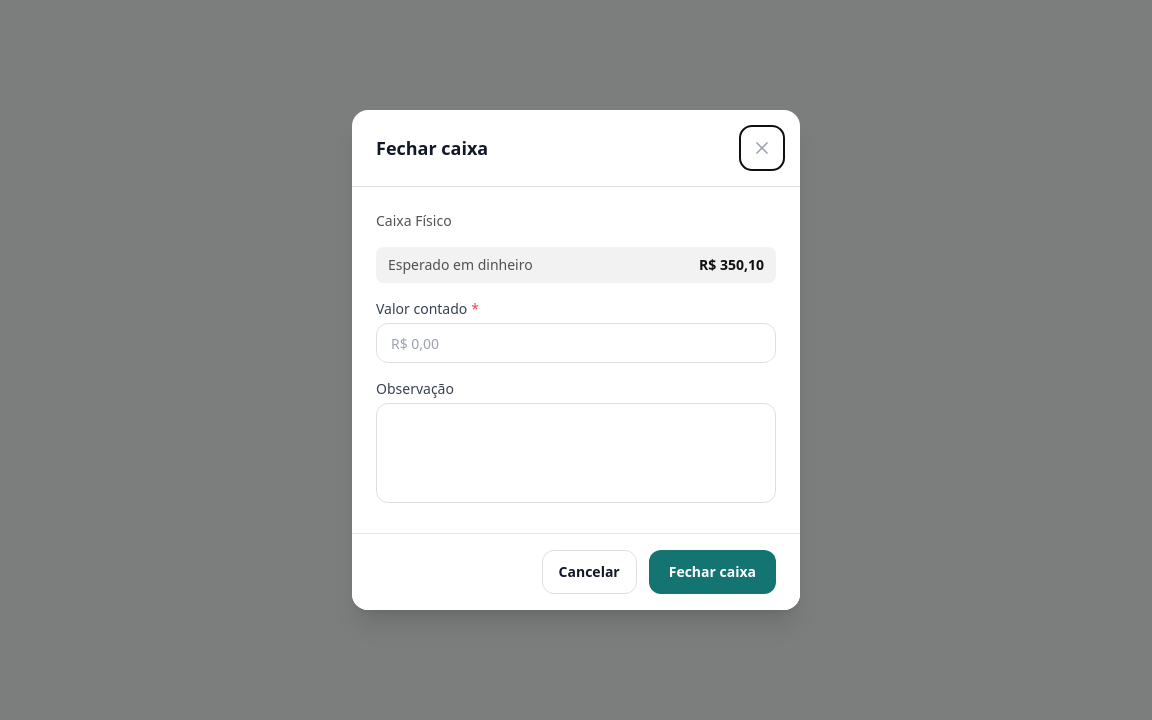
Test: CloseCashSessionModal › destaca falta, sobra e sem diferença conforme o valor contado
The image size is (1152, 720).
expect the text with test id "valor-esperado" reads "R$ 350,10": met, box [699,255,764,274]
In the field labelled "Valor contado*": coordinates (576, 343) [376,323,776,363], type "35000"
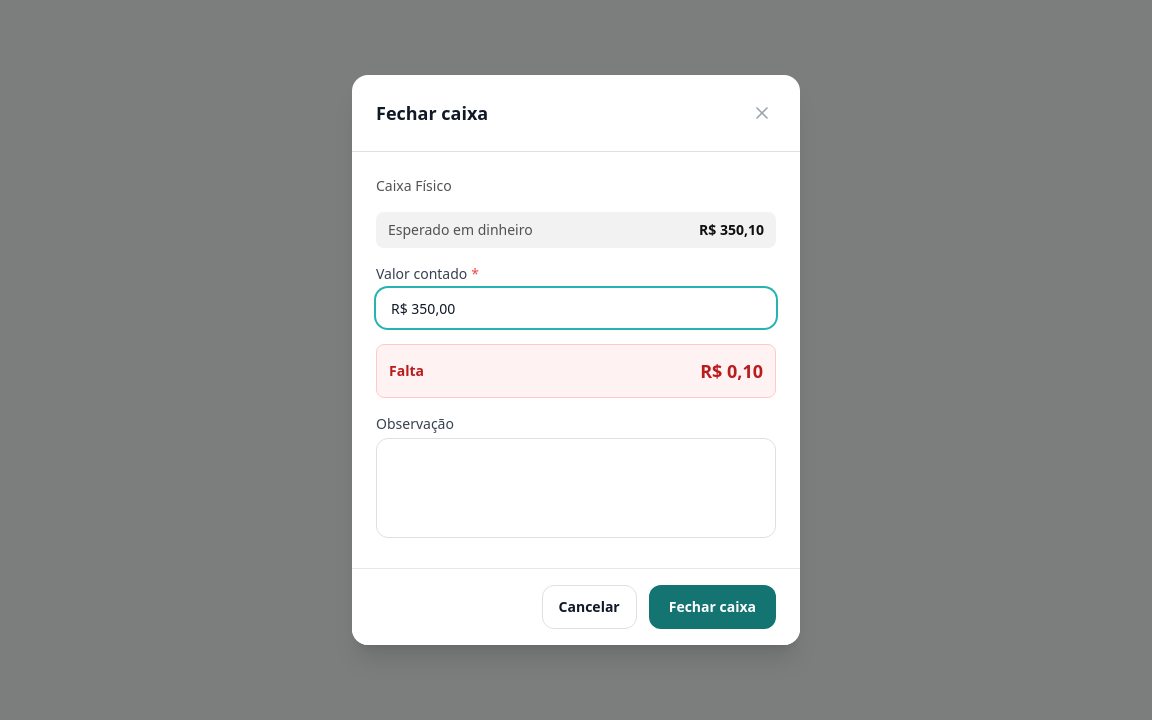
expect the message with test id "diferenca-caixa" reads "Falta R$ 0,10": met, box [376,344,776,398]
Clear the field labelled "Valor contado*": coordinates (576, 308) [376,288,776,328]
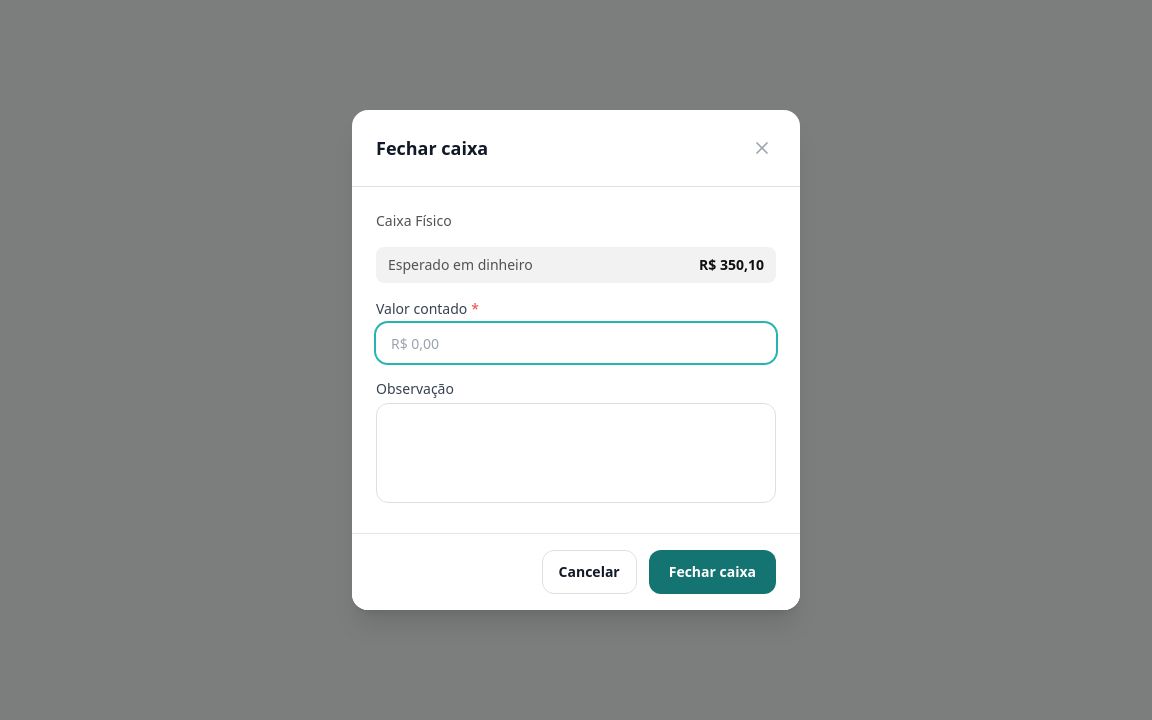
In the field labelled "Valor contado*": coordinates (576, 343) [376,323,776,363], type "35100"
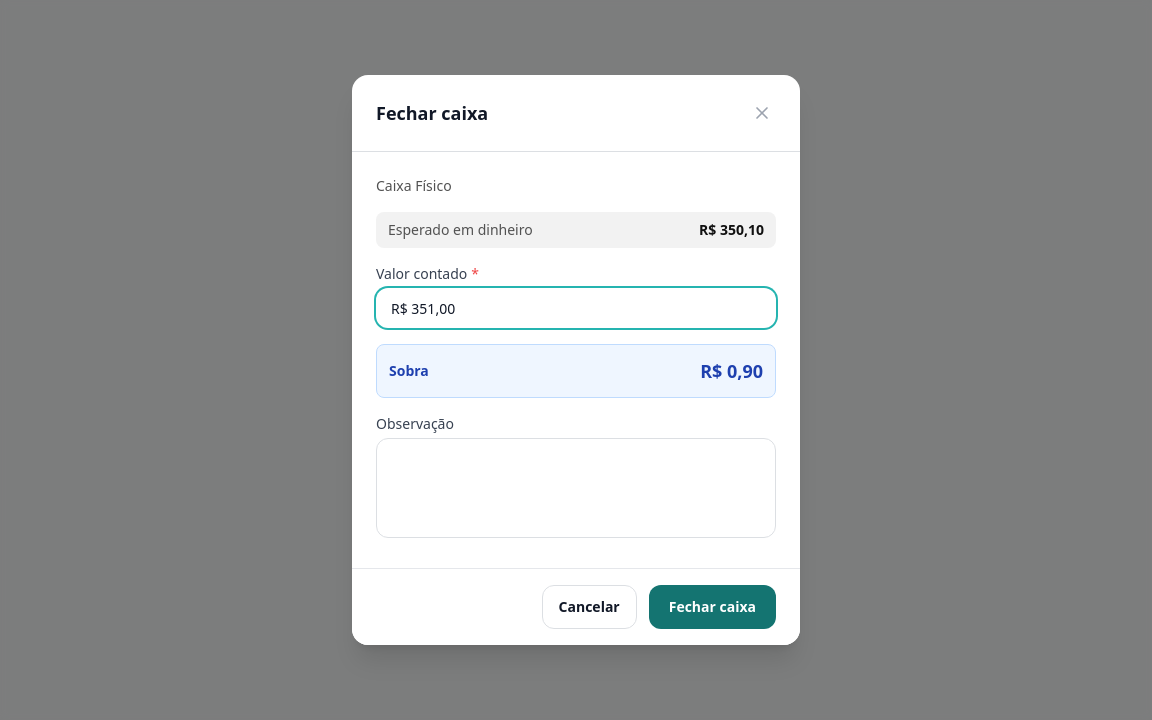
expect the message with test id "diferenca-caixa" reads "Sobra R$ 0,90": met, box [376,344,776,398]
Clear the field labelled "Valor contado*": coordinates (576, 308) [376,288,776,328]
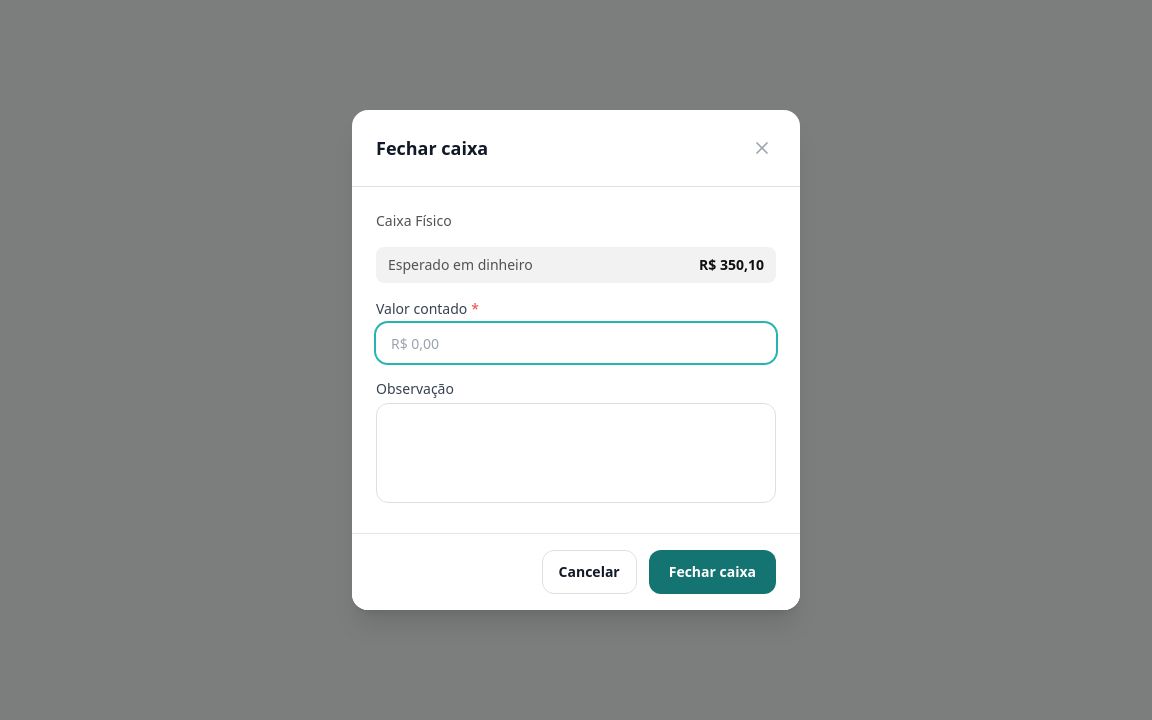
In the field labelled "Valor contado*": coordinates (576, 343) [376,323,776,363], type "35010"
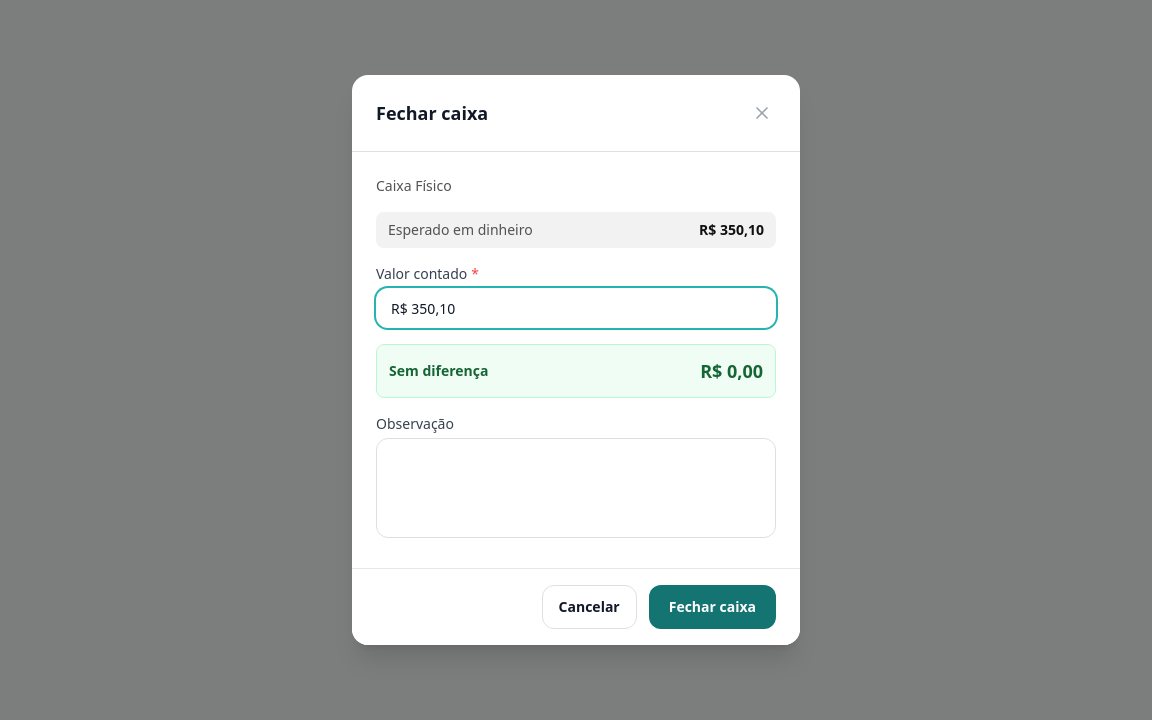
expect the message with test id "diferenca-caixa" shows "Sem diferença": met, box [389,361,488,380]
